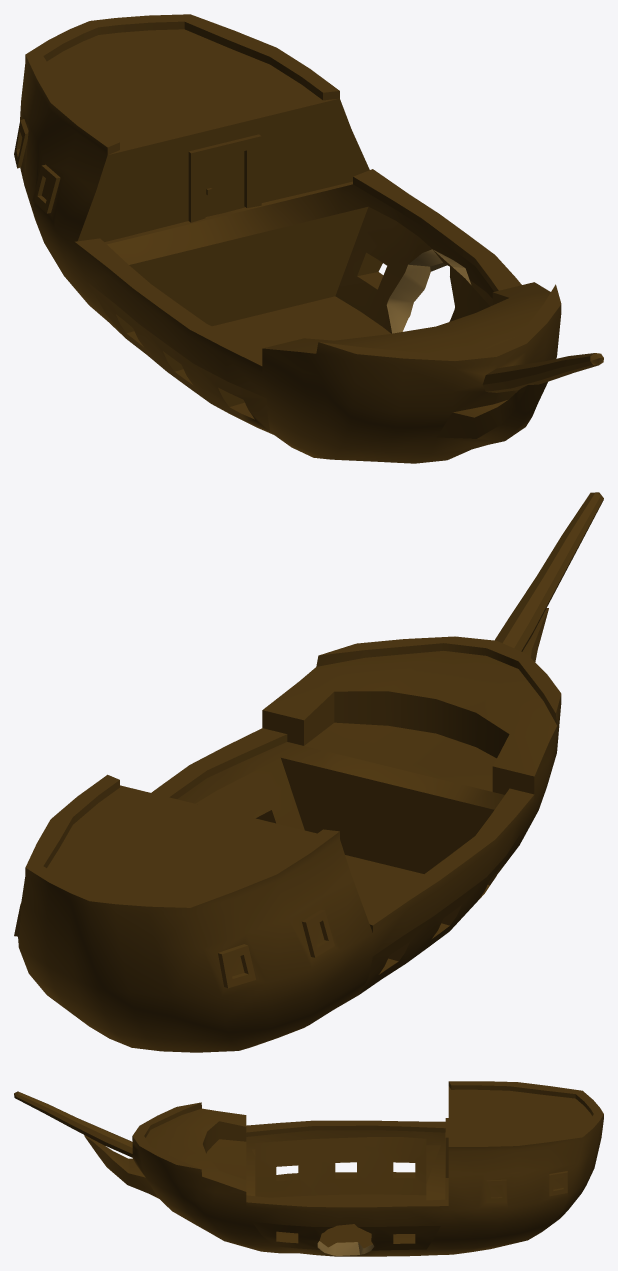
The model's file is CenterBrokenShip.fbx.
3 views of the same model, one above another, from view 1: azimuth 30°, elevation 25°; view 2: azimuth 150°, elevation 25°; view 3: azimuth 270°, elevation 25° (orthographic). The views are drawn at different scales.
Visible parts, largest first — view 1: MainShipBody002; view 2: MainShipBody002; view 3: MainShipBody002.
Part boxes in pixels (x1,y1,x2,y2): MainShipBody002: [14, 14, 603, 463]; MainShipBody002: [14, 492, 603, 1052]; MainShipBody002: [14, 1081, 603, 1256].
Size of the model in its own units: 507 by 1461 by 381.
